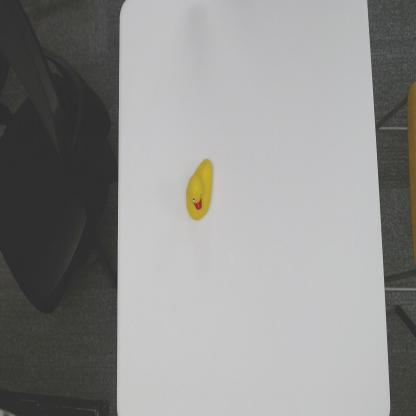Duck: (184, 156, 215, 221)
